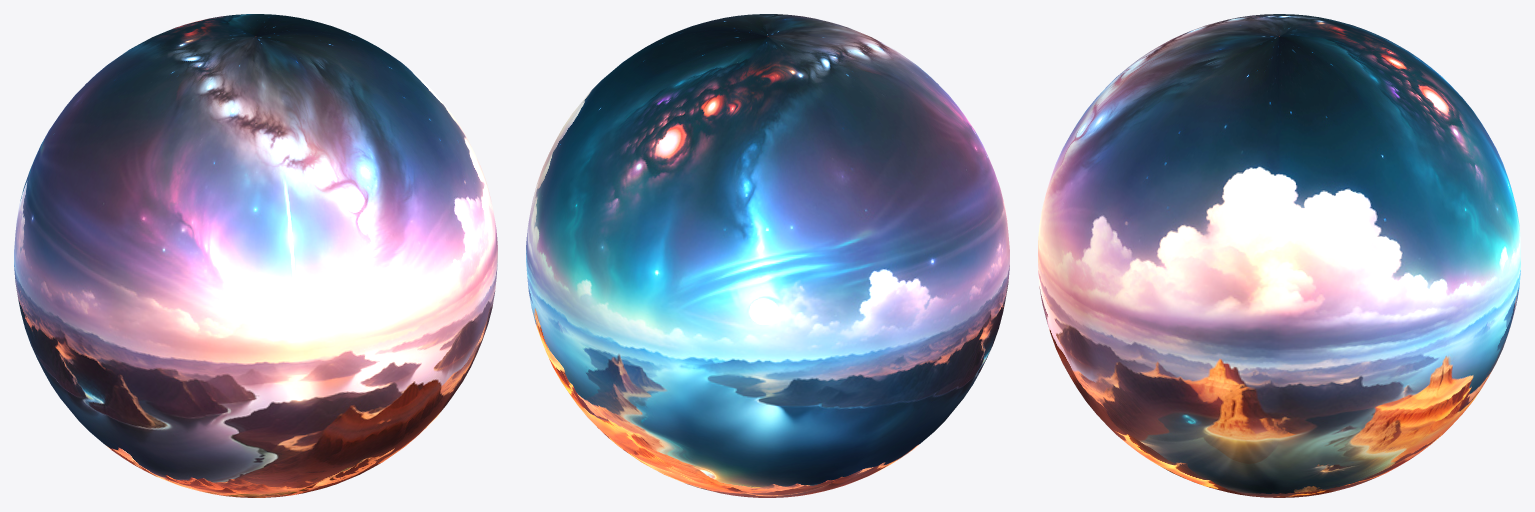
Rendered from sky.glb.
3 renders of one model, left to right at view 1: azimuth 30°, elevation 25°; view 2: azimuth 150°, elevation 25°; view 3: azimuth 270°, elevation 25°, orthographic.
Parts seen in each view (by area): view 1: pack1; view 2: pack1; view 3: pack1.
Boxes of the visible parts, bbox=[...] form: pack1: bbox=[14, 14, 497, 497]; pack1: bbox=[526, 14, 1009, 497]; pack1: bbox=[1038, 14, 1520, 497].
Bounding box in the file's own units: 0.2478 × 0.248 × 0.2473.
Materials: 1 (1 with a texture image).
